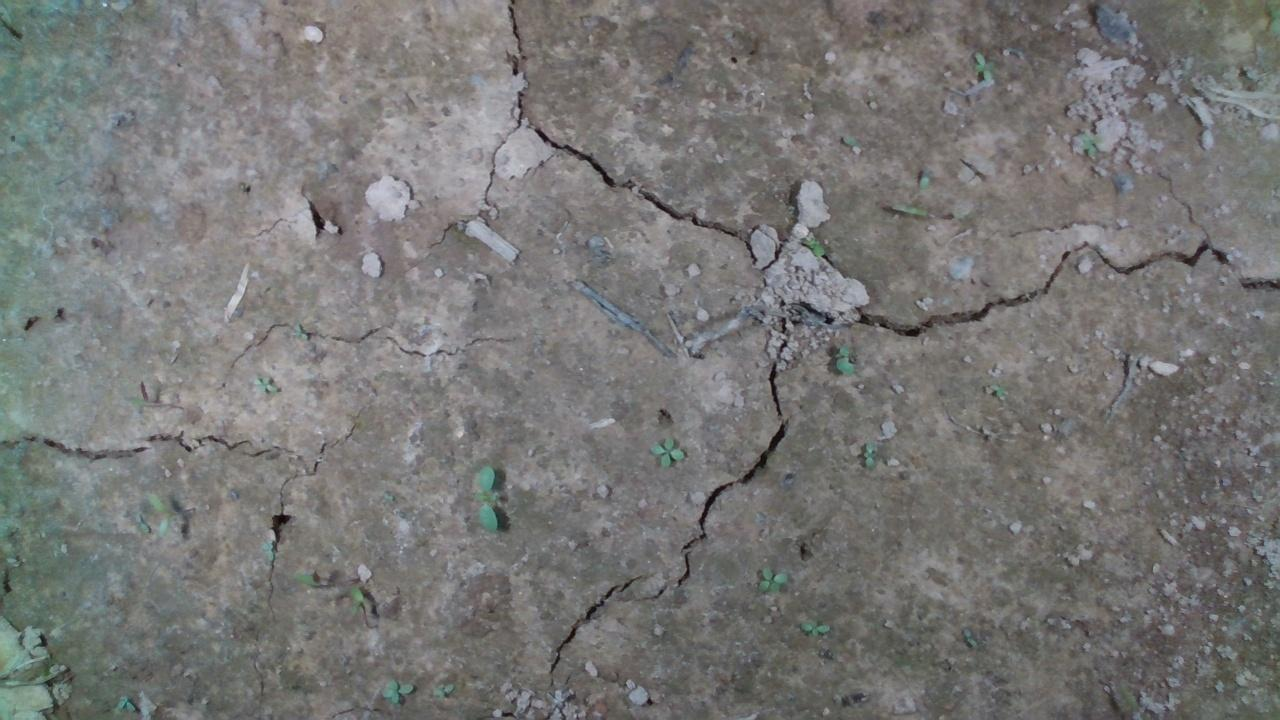weed: (470, 464, 499, 532), (144, 492, 173, 537), (647, 436, 686, 468), (755, 567, 790, 595), (971, 50, 993, 82), (834, 343, 856, 374), (801, 618, 829, 636), (251, 376, 278, 394), (860, 441, 877, 468)
